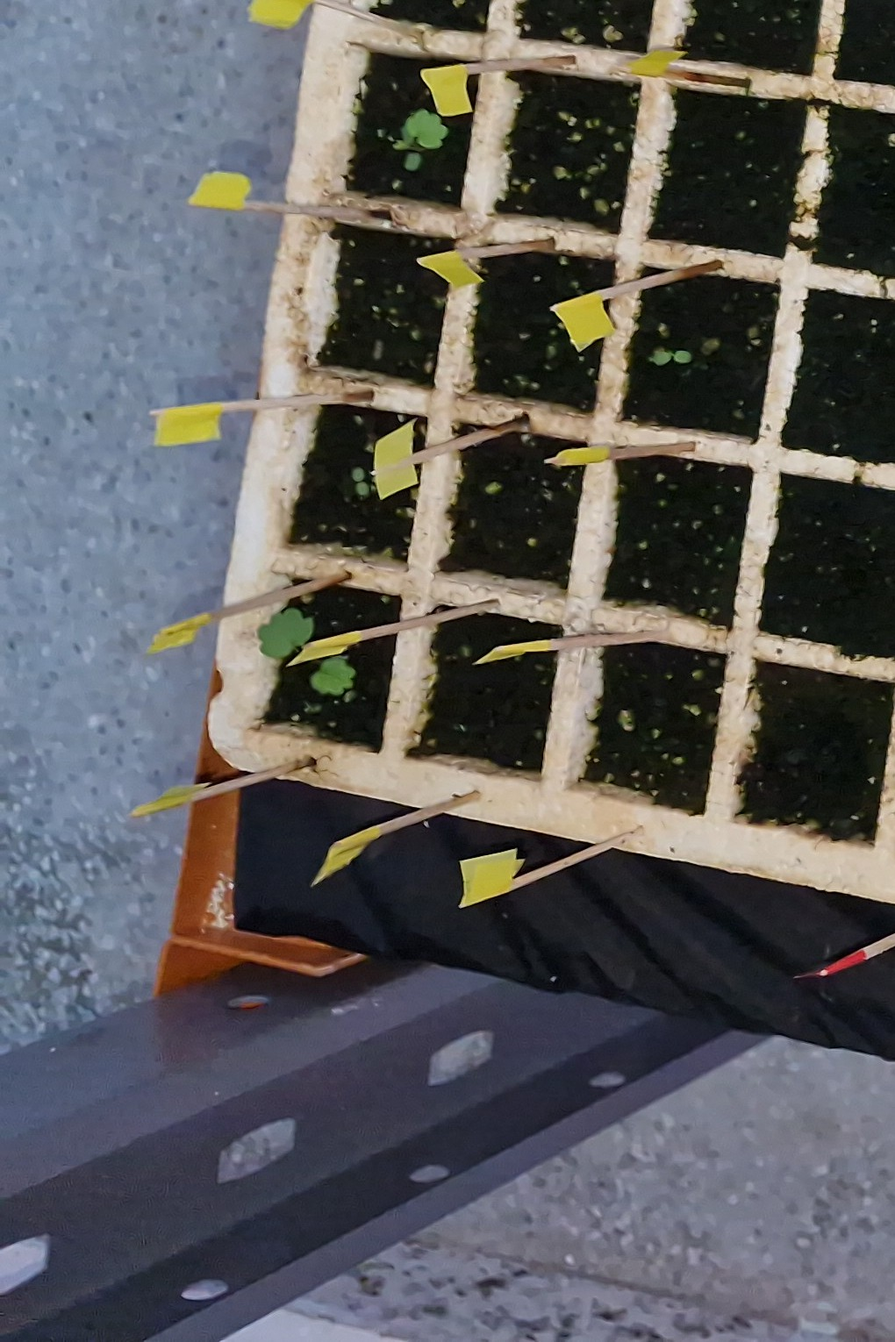Folha: (259, 609, 313, 659), (405, 109, 448, 148), (311, 658, 357, 694), (652, 351, 671, 367), (405, 153, 421, 171), (401, 127, 414, 146), (673, 351, 691, 363), (356, 482, 369, 495), (353, 468, 365, 481), (393, 140, 408, 150)
Germinacao: (392, 109, 449, 170), (259, 609, 313, 659), (311, 658, 357, 694), (654, 351, 691, 365), (353, 468, 369, 495)
